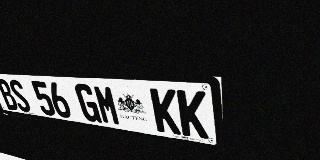5: (30, 81, 57, 116)
6: (45, 82, 73, 119)
B: (0, 79, 20, 111)
G: (73, 83, 102, 123)
K: (177, 90, 209, 139), (150, 88, 181, 135)
M: (92, 84, 122, 126)
S: (7, 79, 33, 113)
